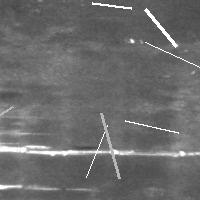scratches: (1, 139, 198, 159), (140, 37, 200, 83), (96, 108, 124, 183), (140, 4, 181, 51), (81, 120, 112, 182), (120, 115, 183, 137), (1, 181, 87, 193), (0, 102, 17, 149), (87, 0, 136, 13)
